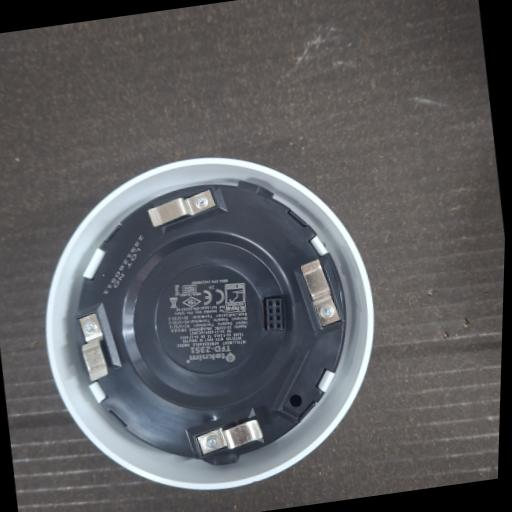yaysiz: (182, 408, 274, 471), (290, 252, 349, 340), (72, 301, 125, 382), (143, 186, 221, 229)
